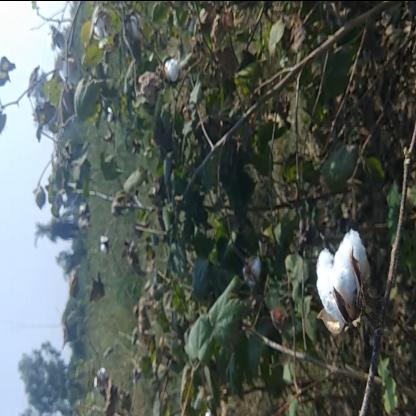cotton_ready: (307, 207, 393, 407)
